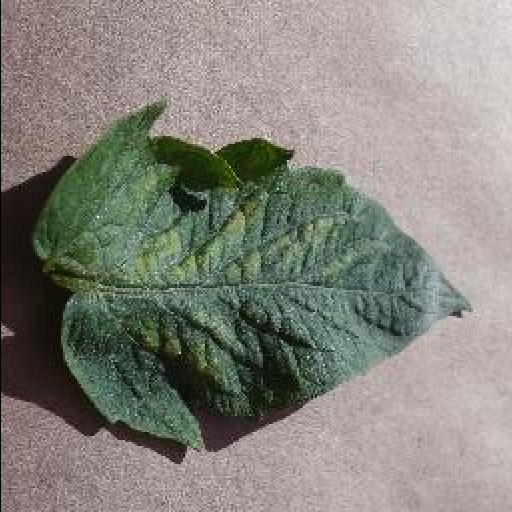disease_tomato: (33, 100, 471, 450)
